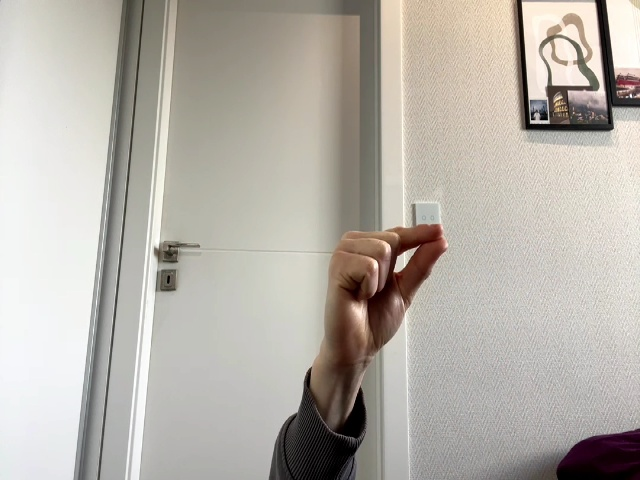P: (324, 224, 448, 381)
